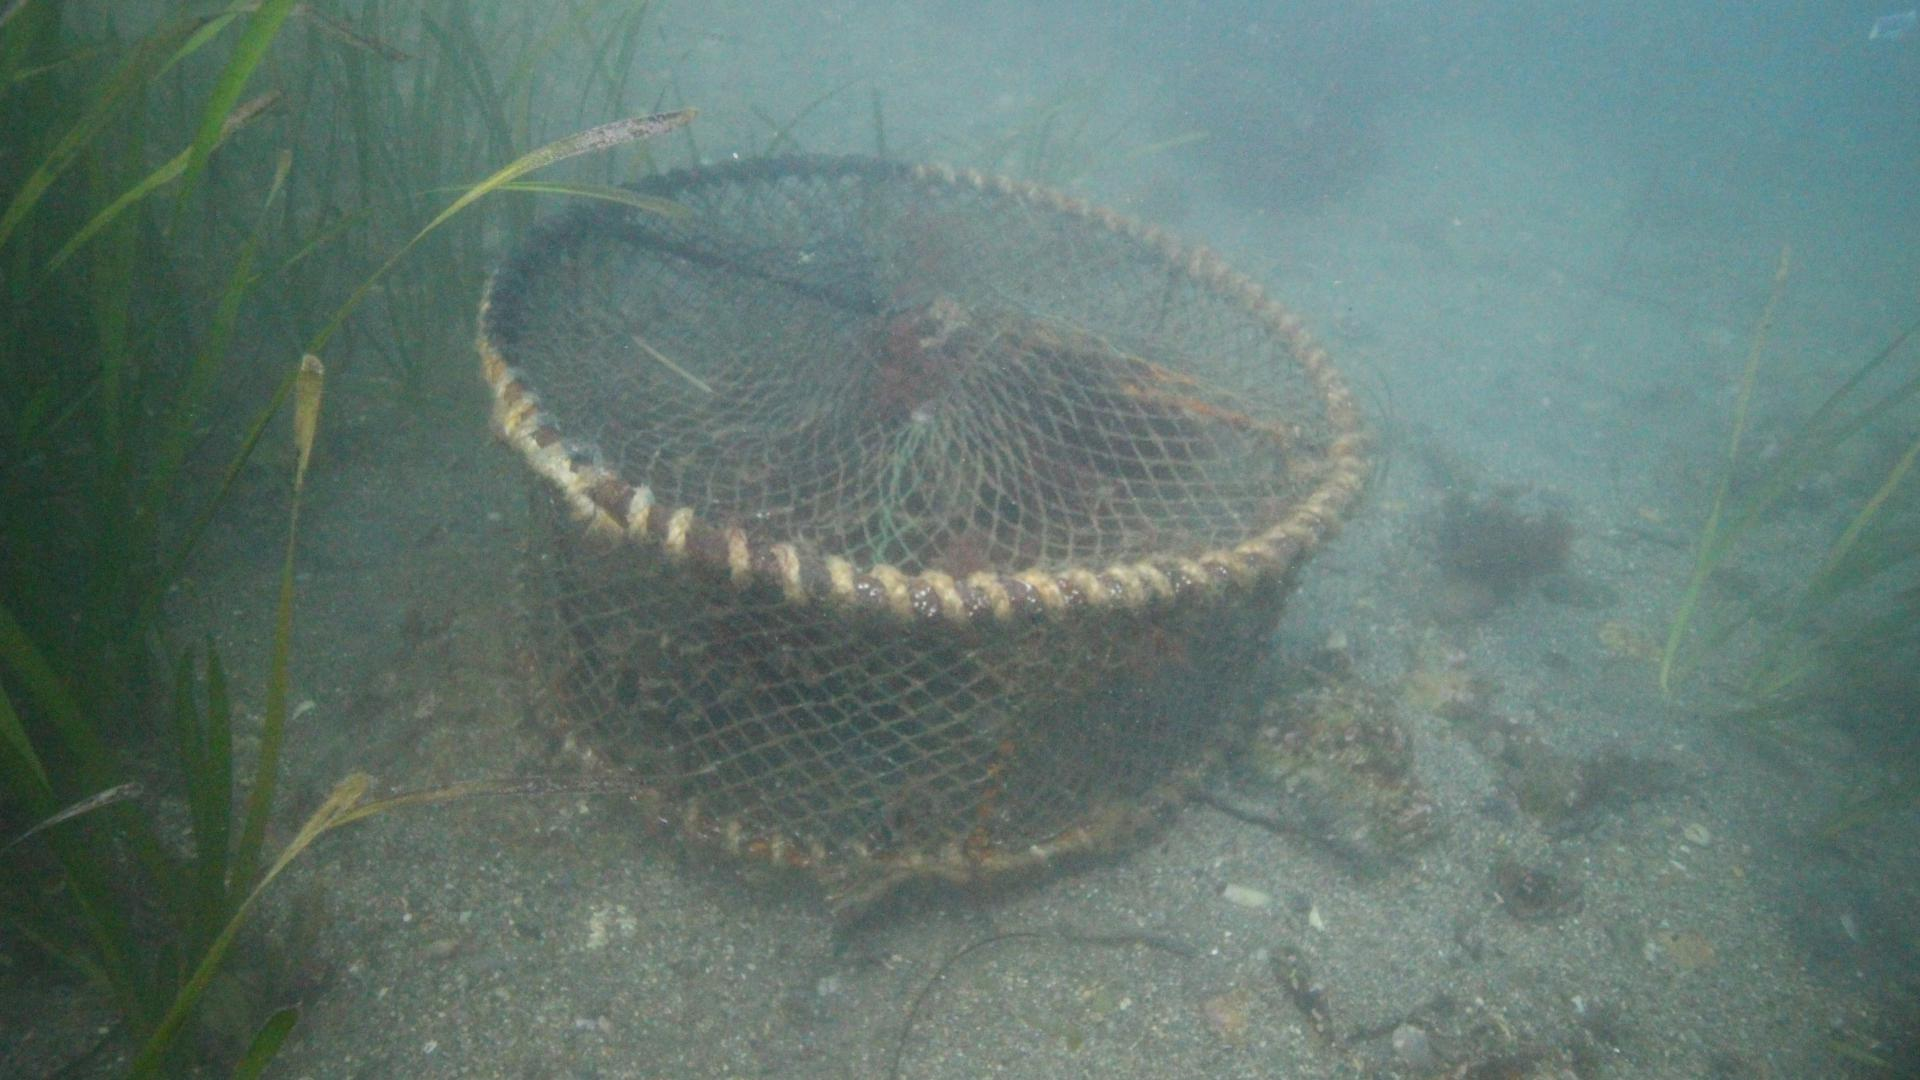circular fish trap: (473, 150, 1379, 884)
